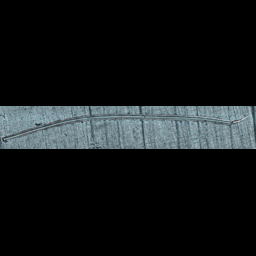d: (1, 112, 251, 144)
